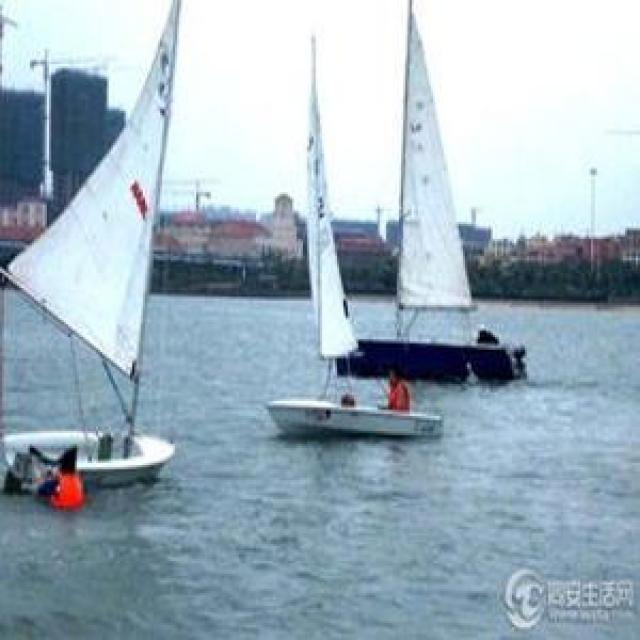sailboat: (0, 0, 178, 494), (268, 33, 444, 437), (343, 2, 528, 381)
